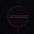No entry: (6, 5, 29, 29)
